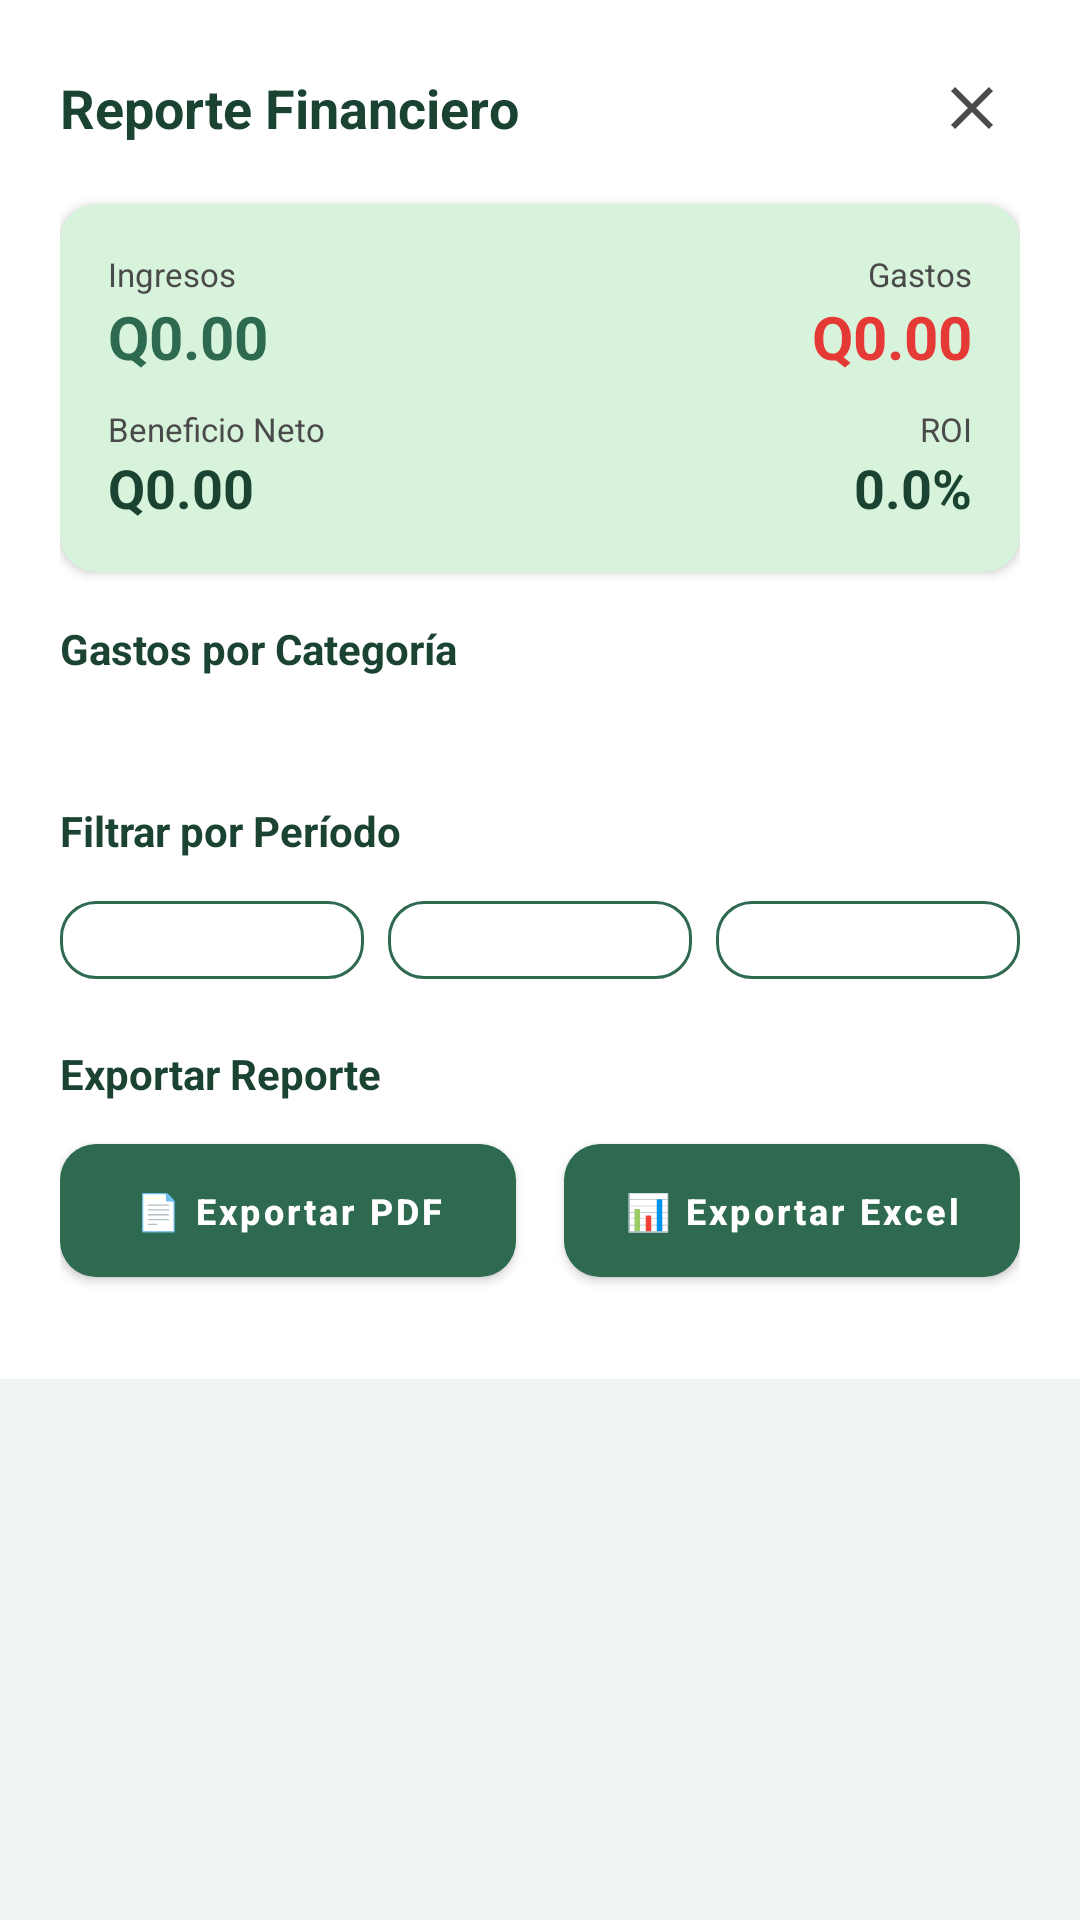

Screen size 1080 × 1920. Icon name, then its center in pixels as point (x, y):
Cerrar: point (972, 108)
